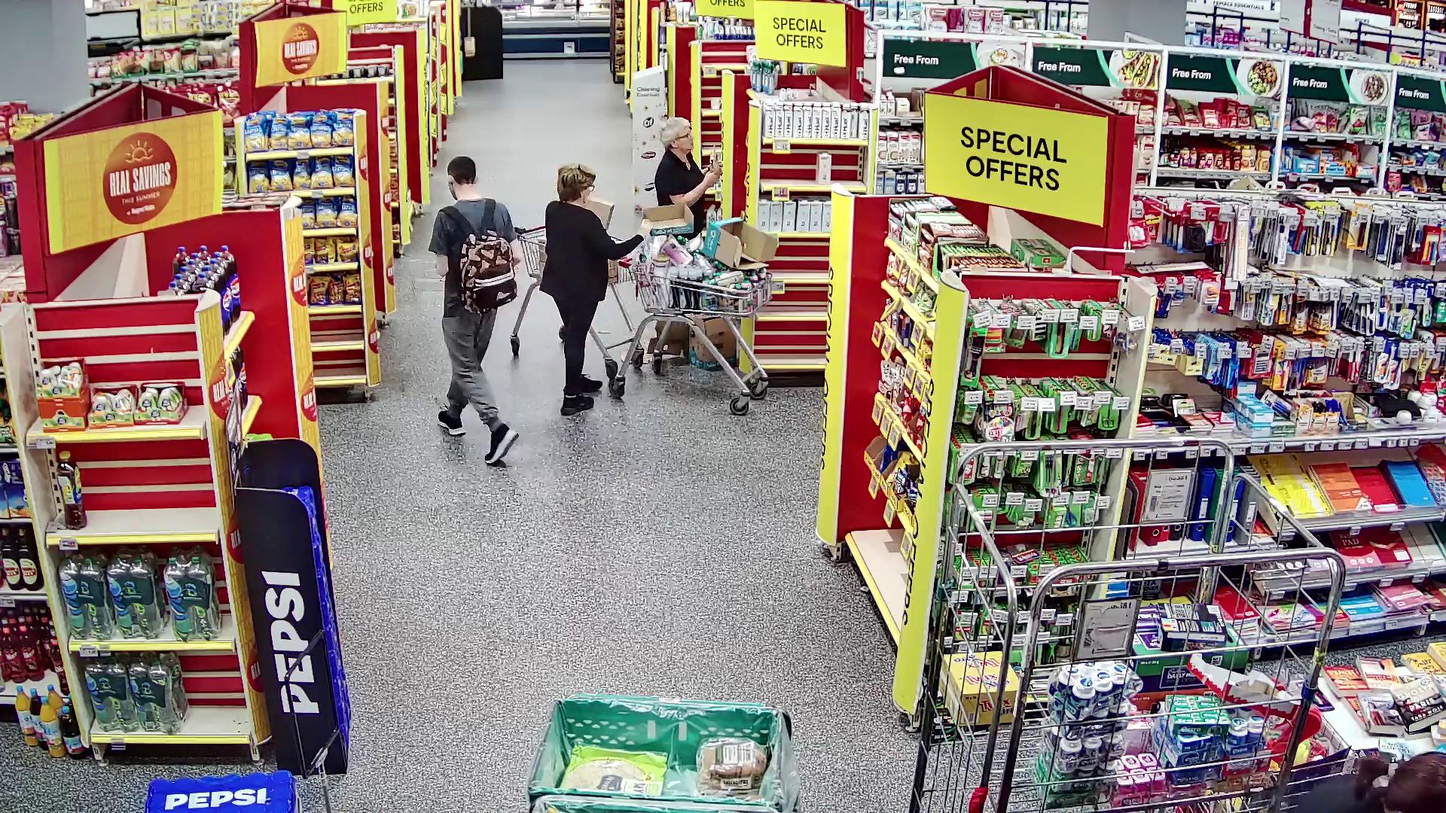backpack-or-handbag: (460, 232, 518, 313)
empty-basket: (406, 258, 448, 299)
person: (429, 157, 519, 464)
person-with-basket-trolly-and-backpack-handbag: (409, 156, 519, 465)
